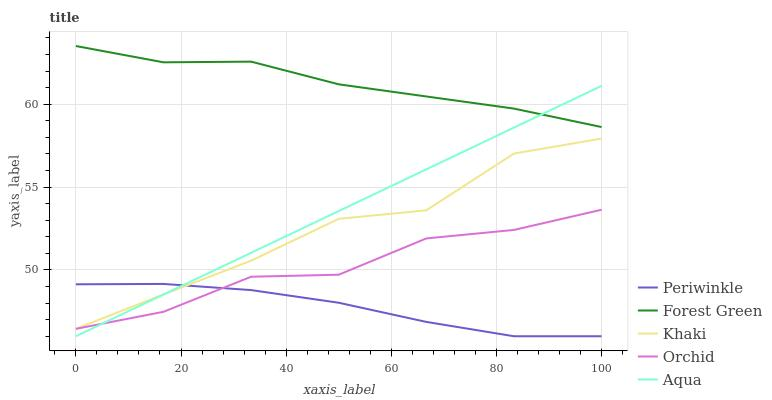axis: (57, 344, 628, 358), (43, 31, 54, 350)
legend: (631, 269, 768, 394)
line: (75, 84, 603, 339), (77, 136, 602, 332), (77, 207, 602, 331), (76, 44, 602, 129), (75, 281, 601, 339)
